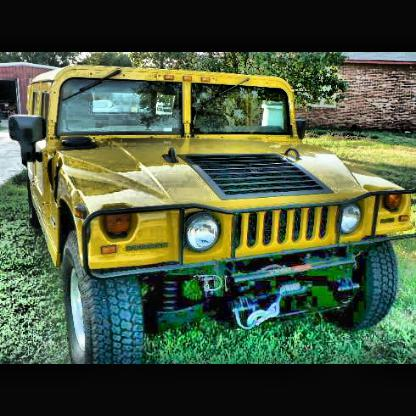AM General Hummer SUV 2000: (8, 64, 416, 364)
